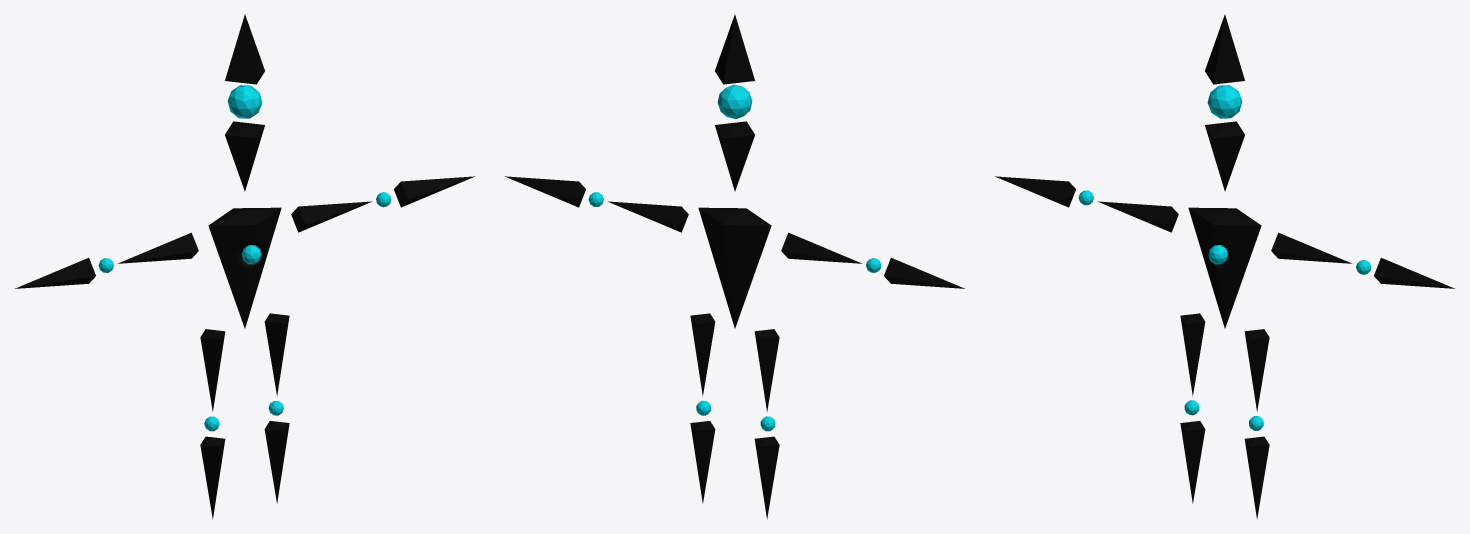
Rendered from humanoid_cutout_FBX.fbx.
3 views of the same model, side by side, from view 1: azimuth 30°, elevation 25°; view 2: azimuth 150°, elevation 25°; view 3: azimuth 330°, elevation 25° (orthographic).
Parts seen in each view (by area): view 1: Torso_Pyramid, Head_Pyramid_TOP, Head_Pyramid_BOTTOM, R_Leg_Pyramid_LOWER, L_Arm_Pyramid_UPPER, R_Arm_Pyramid_UPPER, L_Leg_Pyramid_LOWER, L_Arm_Pyramid_LOWER, R_Leg_Pyramid_UPPER, R_Arm_Pyramid_LOWER, L_Leg_Pyramid_UPPER, Head_Sphere; view 2: Torso_Pyramid, Head_Pyramid_TOP, Head_Pyramid_BOTTOM, R_Leg_Pyramid_LOWER, L_Arm_Pyramid_UPPER, R_Arm_Pyramid_UPPER, L_Leg_Pyramid_LOWER, L_Arm_Pyramid_LOWER, R_Leg_Pyramid_UPPER, R_Arm_Pyramid_LOWER, L_Leg_Pyramid_UPPER, Head_Sphere; view 3: Torso_Pyramid, Head_Pyramid_TOP, Head_Pyramid_BOTTOM, L_Leg_Pyramid_LOWER, R_Arm_Pyramid_UPPER, L_Arm_Pyramid_UPPER, R_Leg_Pyramid_LOWER, R_Arm_Pyramid_LOWER, L_Leg_Pyramid_UPPER, L_Arm_Pyramid_LOWER, R_Leg_Pyramid_UPPER, Head_Sphere.
Boxes of the visible parts, x1,y1,x2,y2 form: Torso_Pyramid: (208, 207, 281, 328); Head_Pyramid_TOP: (225, 14, 264, 84); Head_Pyramid_BOTTOM: (225, 121, 264, 191); R_Leg_Pyramid_LOWER: (264, 421, 289, 503); L_Arm_Pyramid_UPPER: (117, 232, 198, 263); R_Arm_Pyramid_UPPER: (291, 201, 372, 232); L_Leg_Pyramid_LOWER: (200, 436, 225, 519); L_Arm_Pyramid_LOWER: (15, 257, 95, 288); R_Leg_Pyramid_UPPER: (264, 313, 289, 396); R_Arm_Pyramid_LOWER: (394, 176, 474, 207); L_Leg_Pyramid_UPPER: (200, 329, 225, 411); Head_Sphere: (227, 85, 262, 118); Torso_Pyramid: (698, 207, 771, 328); Head_Pyramid_TOP: (715, 14, 754, 84); Head_Pyramid_BOTTOM: (715, 121, 754, 191); R_Leg_Pyramid_LOWER: (690, 421, 715, 503); L_Arm_Pyramid_UPPER: (781, 232, 862, 263); R_Arm_Pyramid_UPPER: (607, 201, 688, 232); L_Leg_Pyramid_LOWER: (754, 436, 779, 519); L_Arm_Pyramid_LOWER: (884, 257, 964, 288); R_Leg_Pyramid_UPPER: (690, 313, 715, 396); R_Arm_Pyramid_LOWER: (505, 176, 585, 207); L_Leg_Pyramid_UPPER: (754, 329, 779, 411); Head_Sphere: (717, 84, 752, 119); Torso_Pyramid: (1188, 207, 1261, 328); Head_Pyramid_TOP: (1205, 14, 1244, 84); Head_Pyramid_BOTTOM: (1205, 121, 1244, 191); L_Leg_Pyramid_LOWER: (1180, 421, 1205, 503); R_Arm_Pyramid_UPPER: (1271, 232, 1352, 263); L_Arm_Pyramid_UPPER: (1097, 201, 1178, 232); R_Leg_Pyramid_LOWER: (1244, 436, 1269, 519); R_Arm_Pyramid_LOWER: (1374, 257, 1454, 288); L_Leg_Pyramid_UPPER: (1180, 313, 1205, 396); L_Arm_Pyramid_LOWER: (995, 176, 1075, 207); R_Leg_Pyramid_UPPER: (1244, 329, 1269, 411); Head_Sphere: (1207, 85, 1242, 118).
Bounding box in the file's own units: 14.72 × 15.18 × 1.29.
